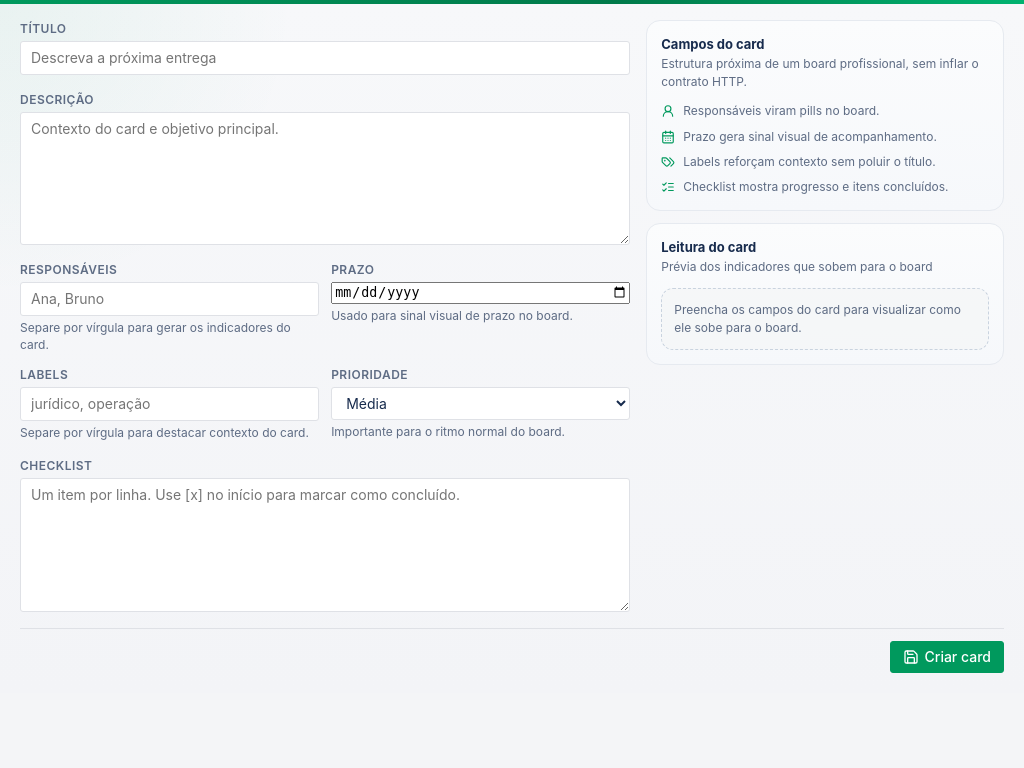
it: TaskComposer › shows the title error inside the composer and clears it after typing
Click the button "Criar card" at (947, 657), box [890,641,1004,673]
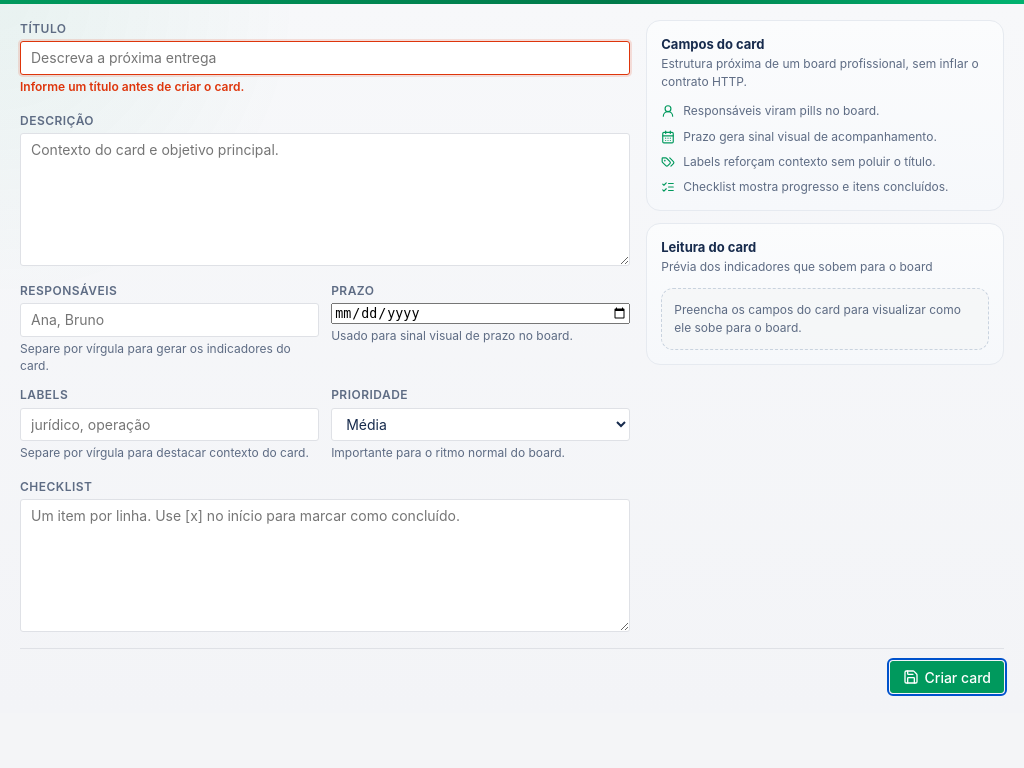
expect the message reads "Informe um título antes de criar o card.": met, box [20,79,244,94]
Type "Planejar reunião" into the field labelled "Título" at (325, 58), box [20,41,630,75]
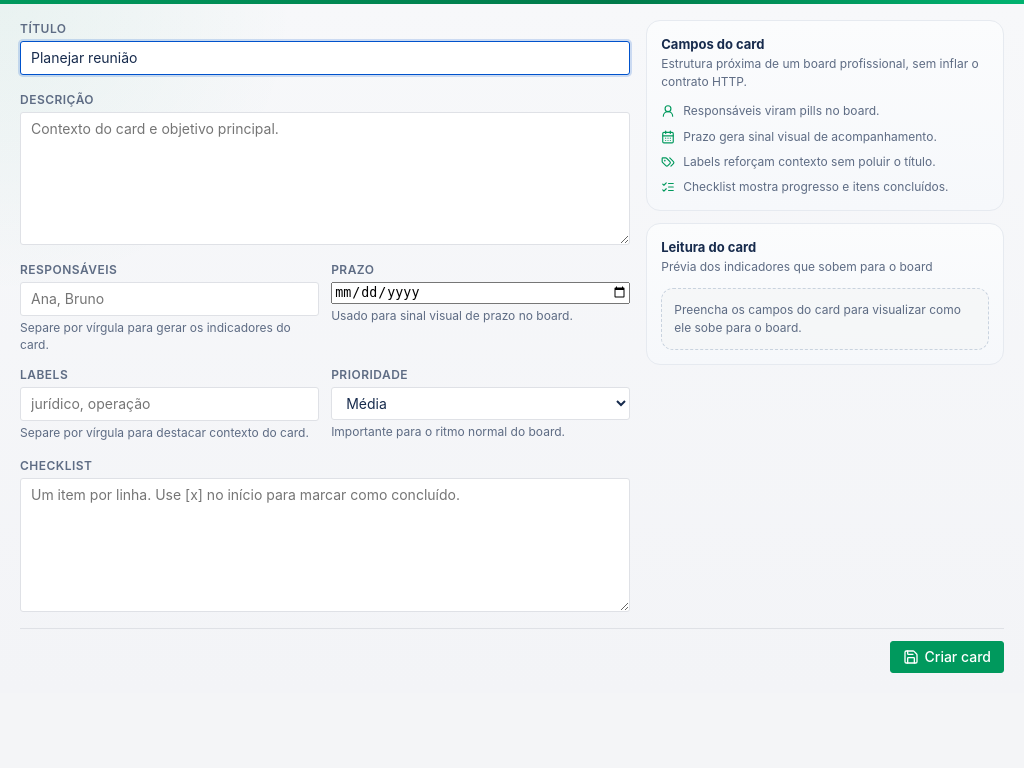
expect the message "Informe um título antes de criar o card." is gone: met
